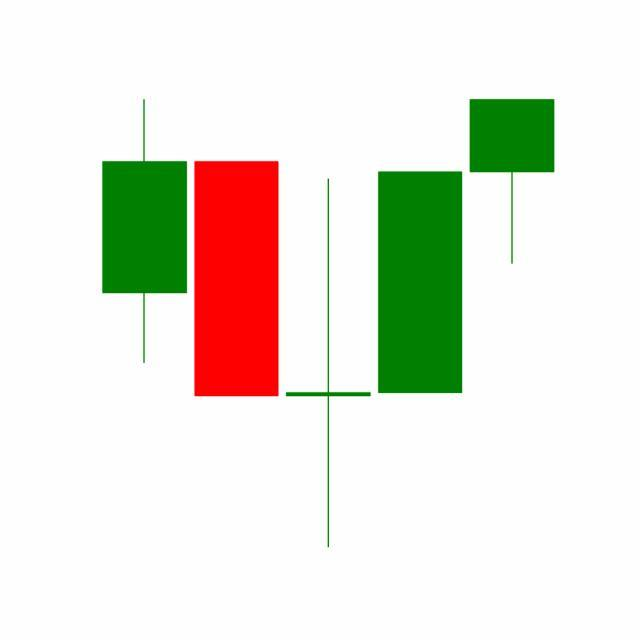Marubozu: (374, 170, 468, 396)
